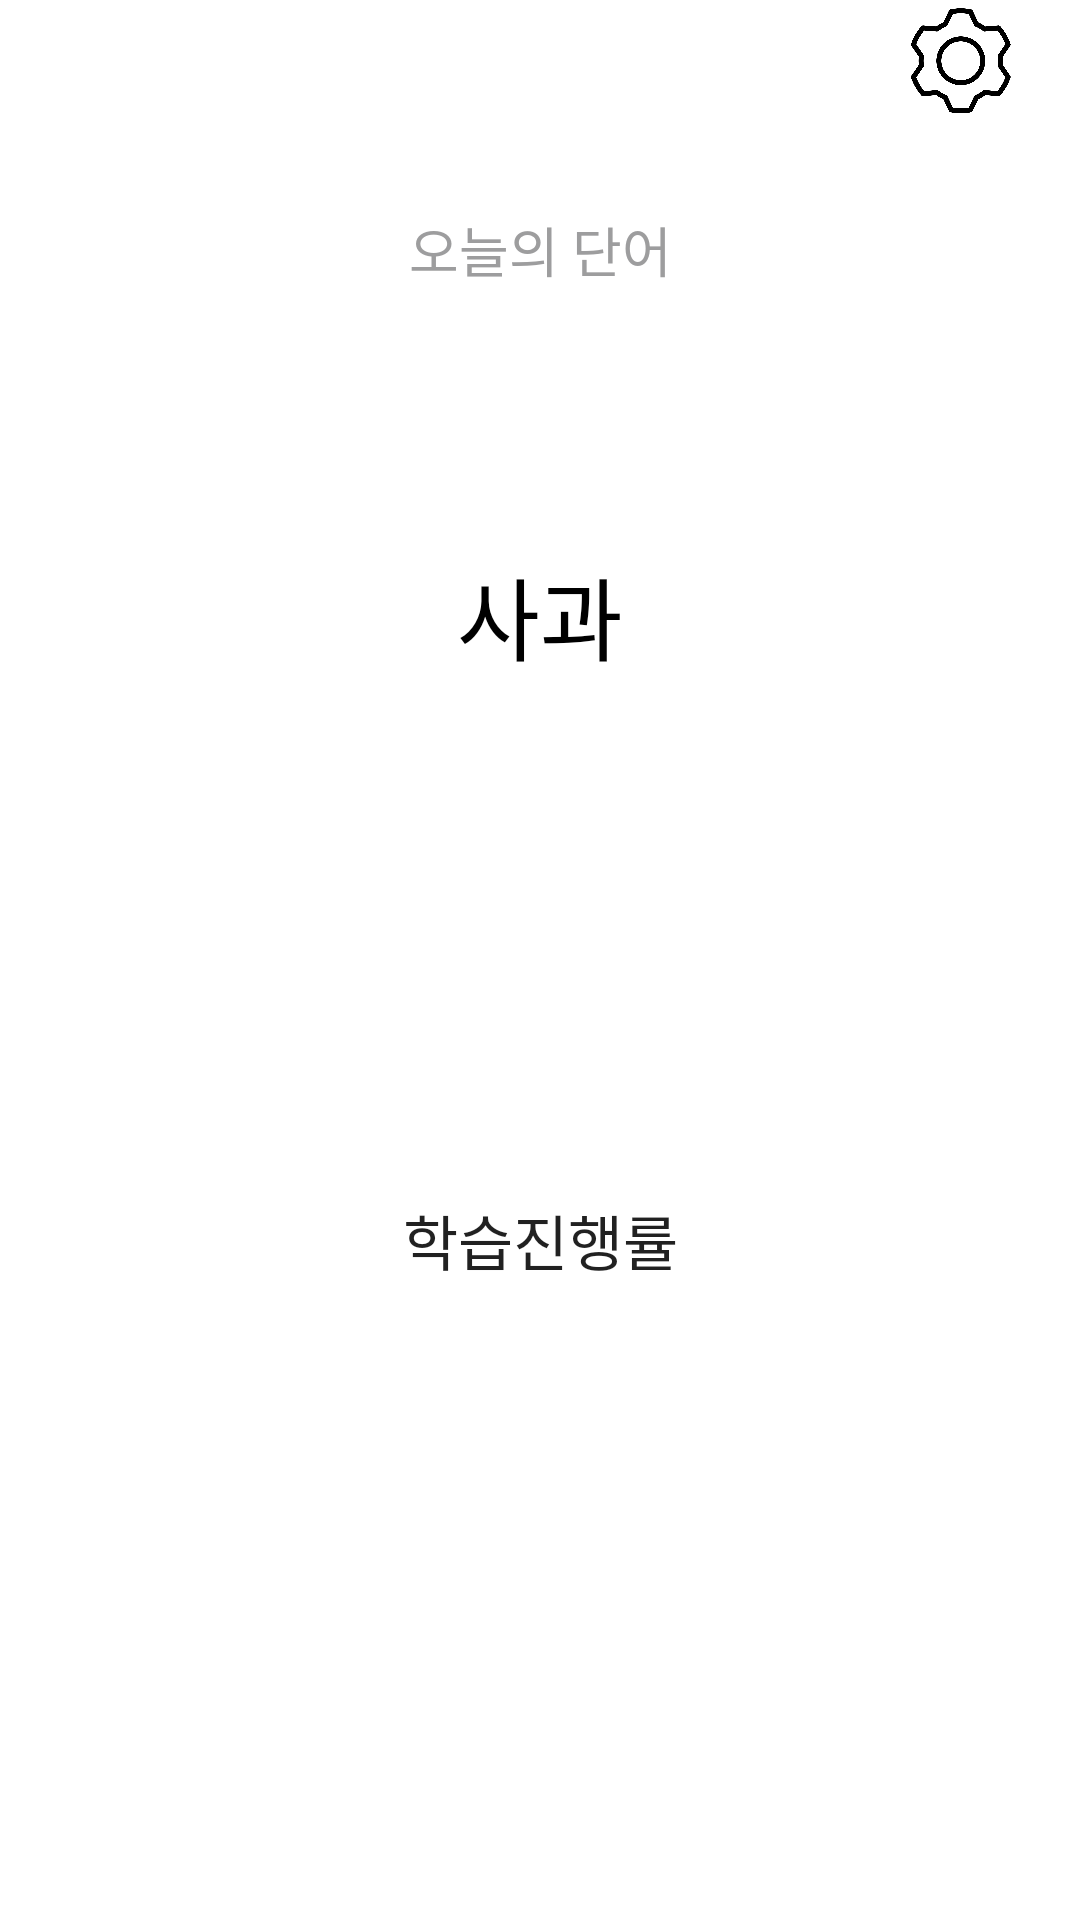

Icon bounding boxes for this 1080w x 1920h phone screenshot, format (x1=x1, y1=y1, x2=x2, y2=y2):
설정 버튼: (x1=911, y1=8, x2=1011, y2=113)
